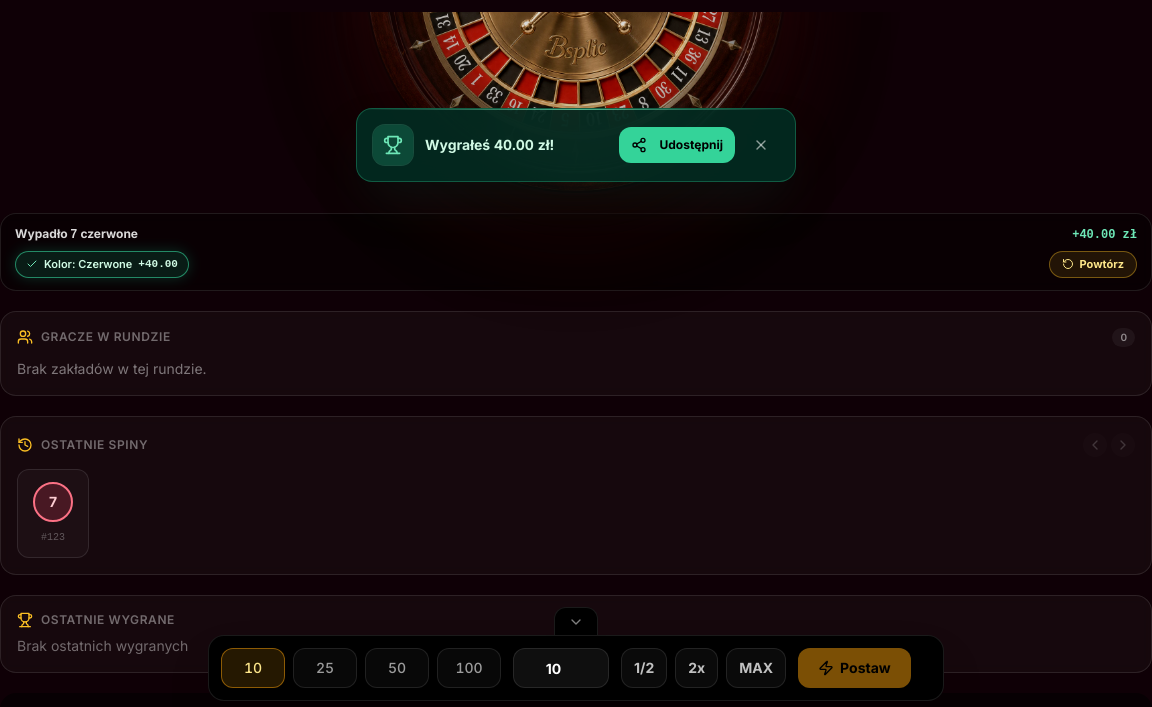
Test: RouletteGame › does not show the same logical win again after sharing it
(page scrolled)
Check: the text "Wygrałeś 40.00 zł!" is shown, box 425,136 -> 554,153
What coordinates should you click on to do the following:
click the button "Udostępnij"
I would click on:
 (677, 145)
Its box is 620,127 -> 735,163.
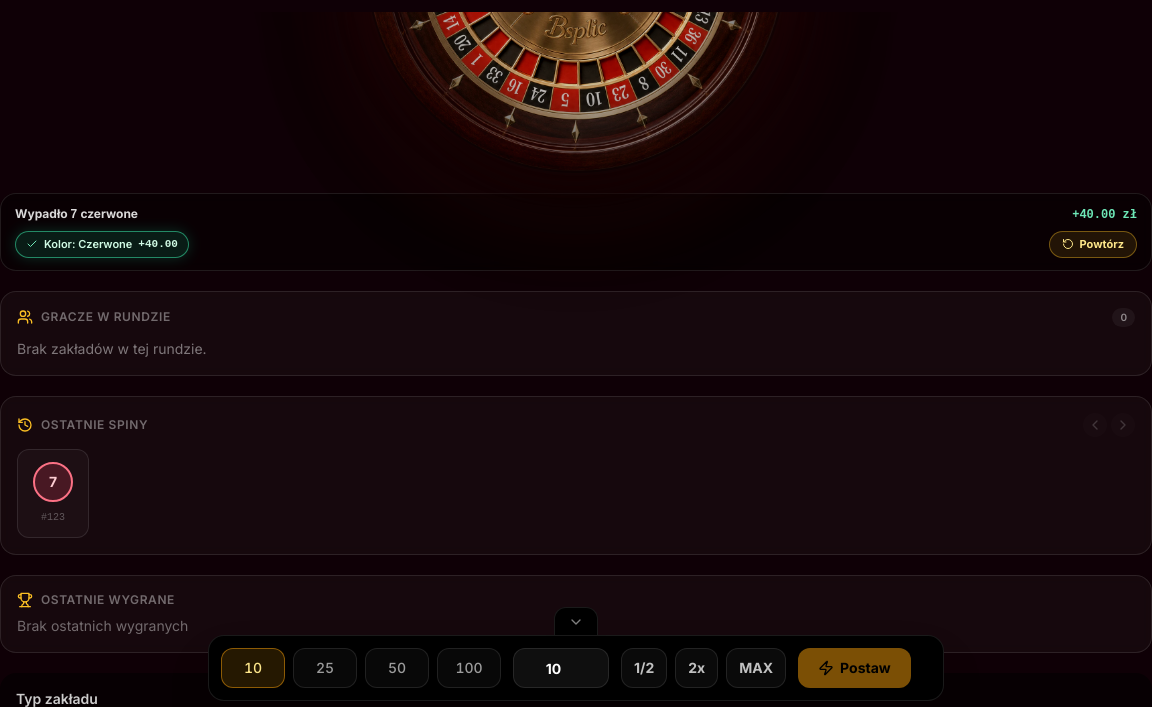
Check: the text "Wygrałeś" is gone
